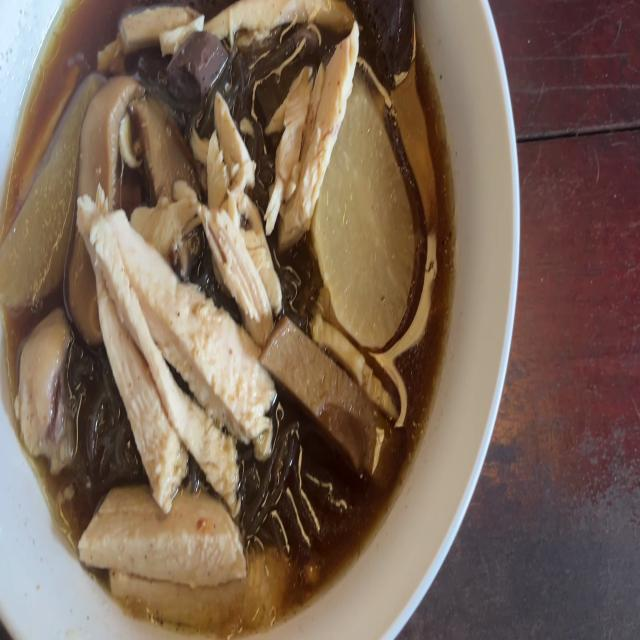boiled_chicken_blood_jelly: (360, 0, 415, 92), (166, 36, 225, 113)
chicken_shredded: (82, 192, 266, 491), (76, 490, 290, 628), (272, 28, 360, 234), (198, 93, 270, 333), (15, 322, 76, 456), (101, 0, 347, 30)
daikon_radish: (0, 77, 93, 301), (328, 123, 419, 350)
noodle: (10, 0, 435, 611)
